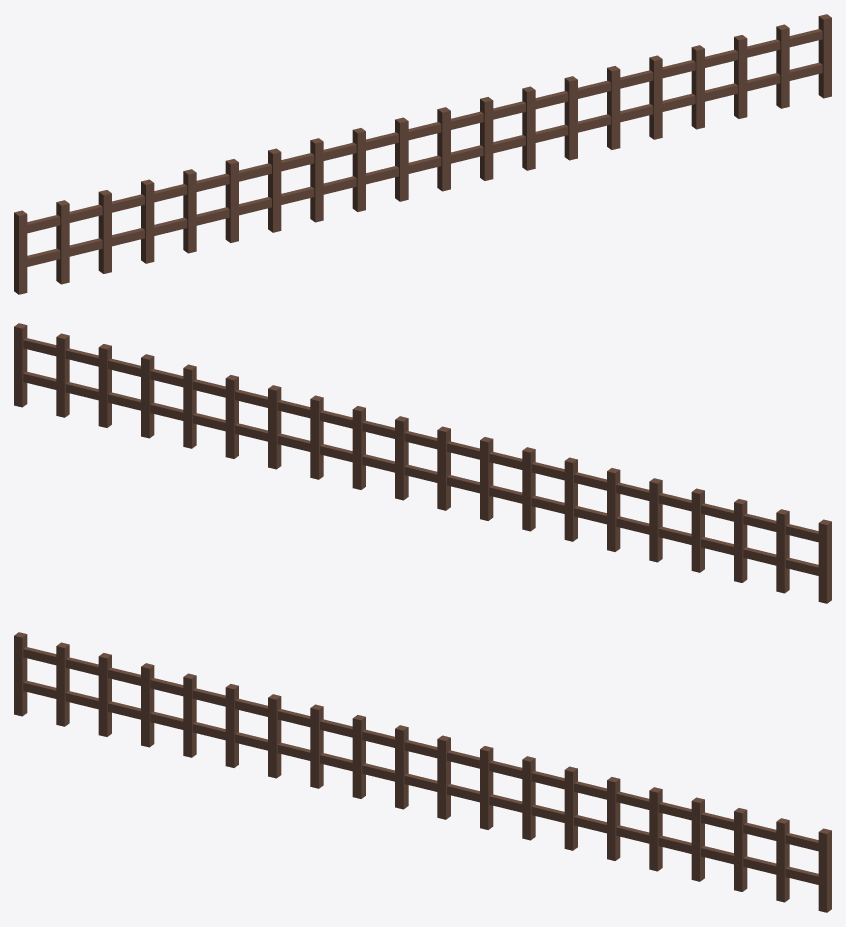
File: Fence 1.fbx
The picture shows the model from 3 angles, top to bottom: view 1: azimuth 30°, elevation 25°; view 2: azimuth 150°, elevation 25°; view 3: azimuth 330°, elevation 25°; orthographic projection.
Visible parts, largest first — view 1: Cube.015; view 2: Cube.015; view 3: Cube.015.
Boxes of the visible parts, <box> form: Cube.015: <box>14,14,831,294</box>; Cube.015: <box>14,323,831,603</box>; Cube.015: <box>14,632,831,912</box>.
Size of the model in its own units: 1935 by 179 by 20.16.
